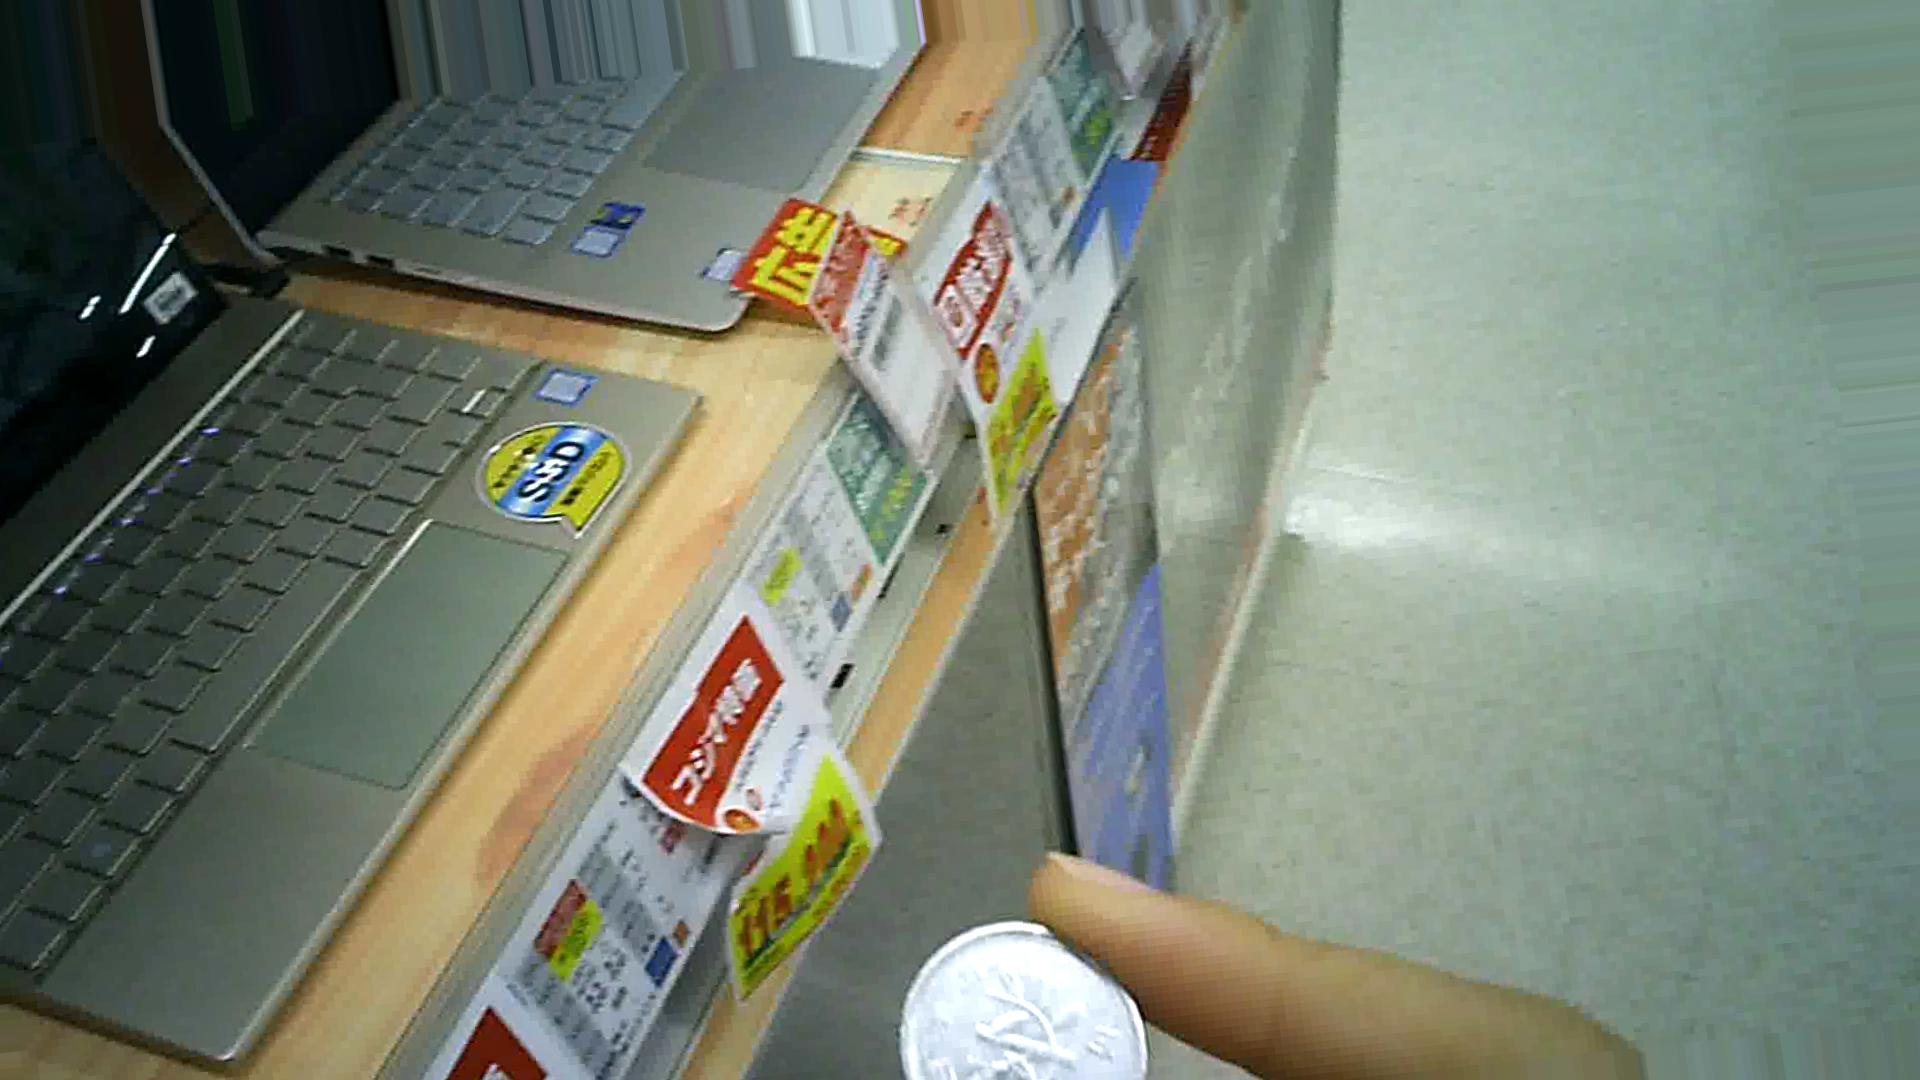1 Yen: (884, 914, 1159, 1069)
